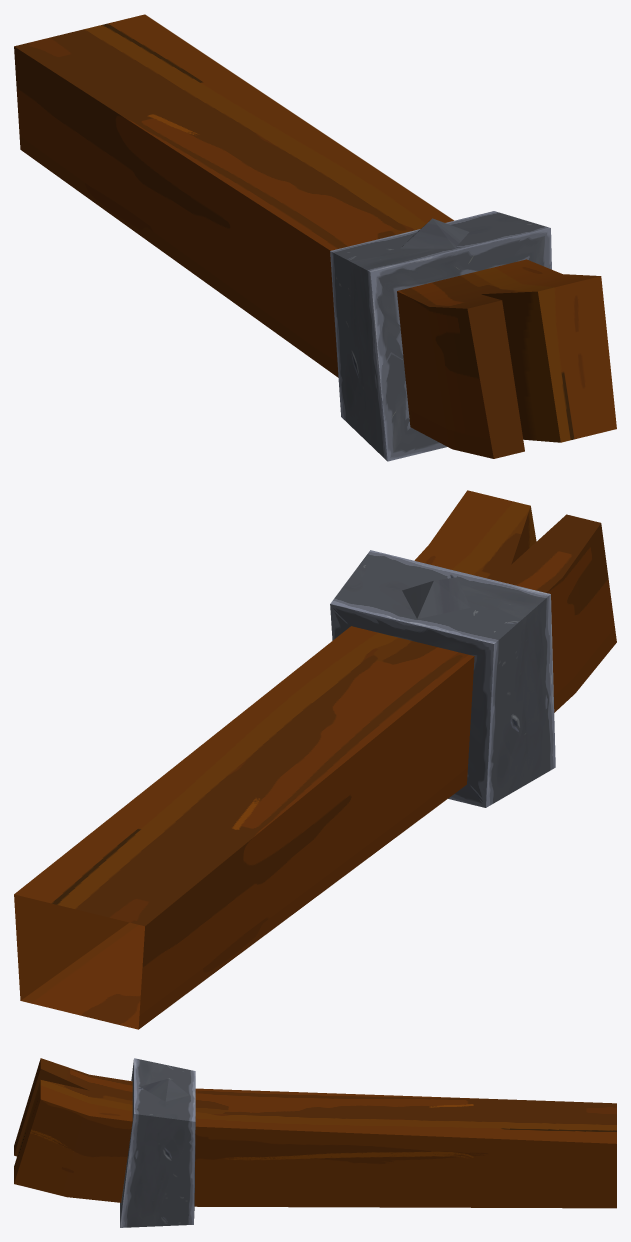
Rendered from SM_BLD_beam_small_v03_01.fbx.
The picture shows the model from 3 angles, top to bottom: view 1: azimuth 30°, elevation 25°; view 2: azimuth 150°, elevation 25°; view 3: azimuth 270°, elevation 25°; orthographic projection. The views are drawn at different scales.
Parts seen in each view (by area): view 1: SM_BLD_beam_small_v03_01; view 2: SM_BLD_beam_small_v03_01; view 3: SM_BLD_beam_small_v03_01.
Part boxes in pixels (x1,y1,x2,y2): SM_BLD_beam_small_v03_01: (14, 14, 616, 461); SM_BLD_beam_small_v03_01: (14, 490, 616, 1029); SM_BLD_beam_small_v03_01: (14, 1058, 616, 1227).
Bounding box in the file's own units: 66.08 × 68.38 × 302.
